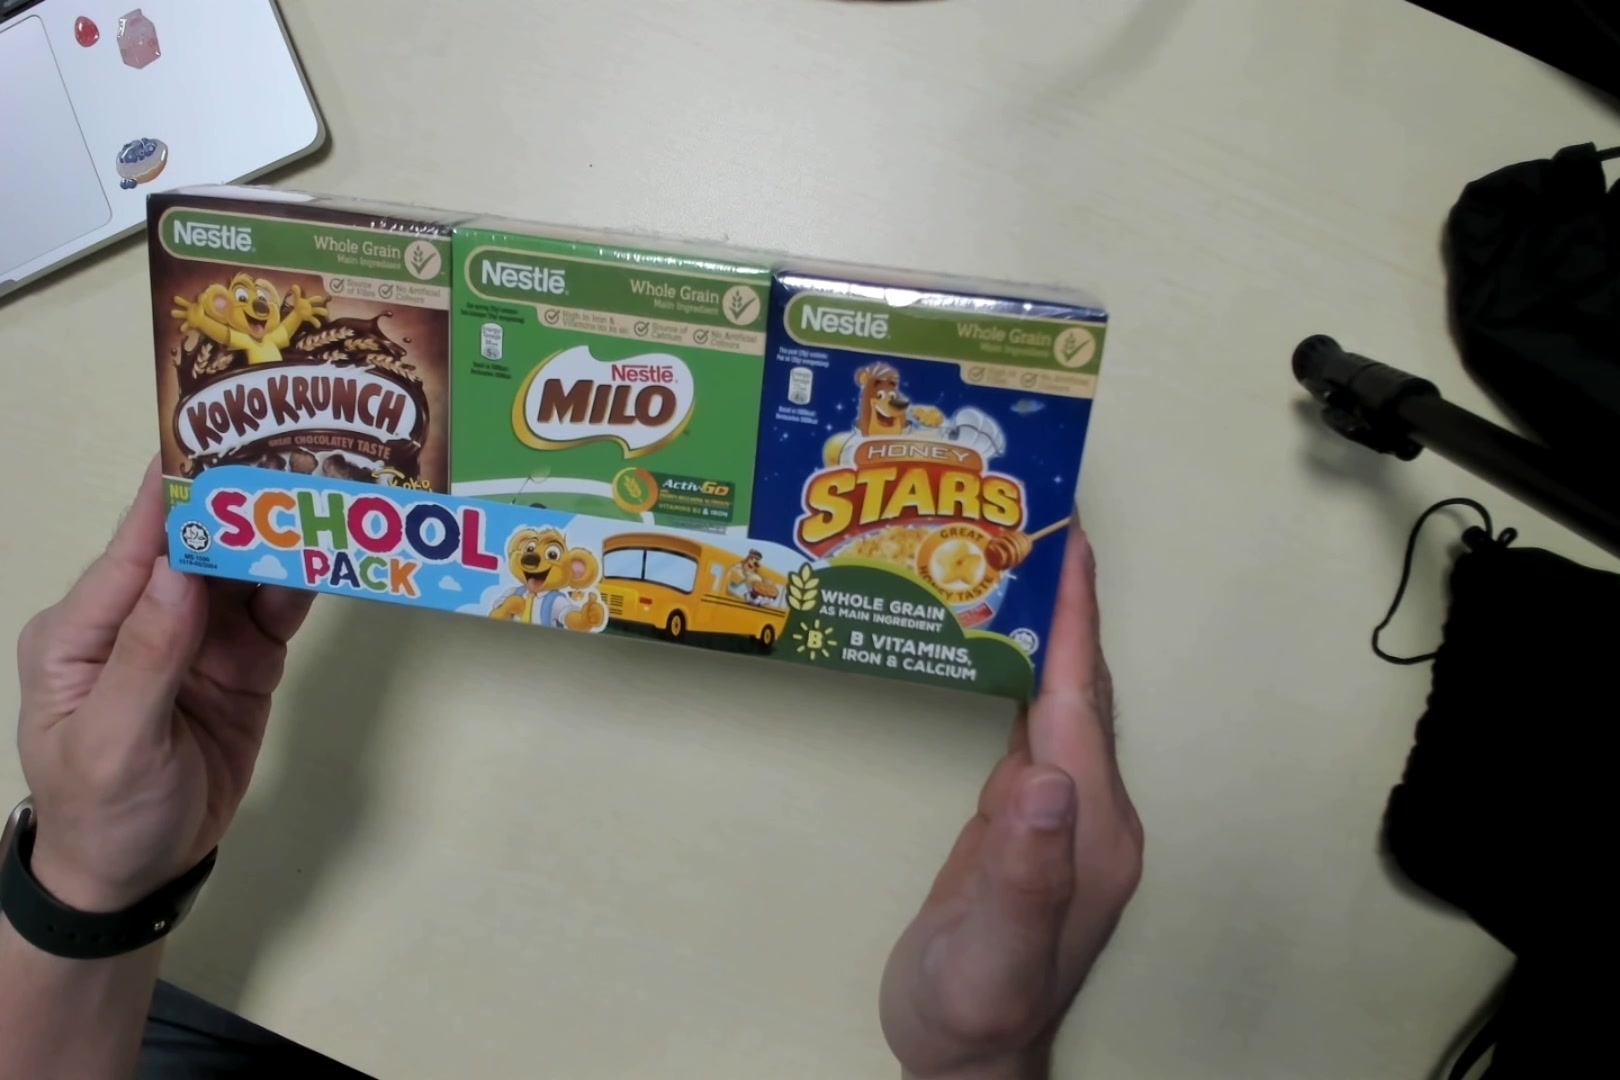BreakfastCereals_100-199g_Halal_NonHealthy: (149, 193, 1061, 689)
